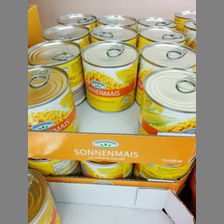corn: (80, 41, 140, 114), (135, 68, 196, 136), (28, 65, 78, 131)
